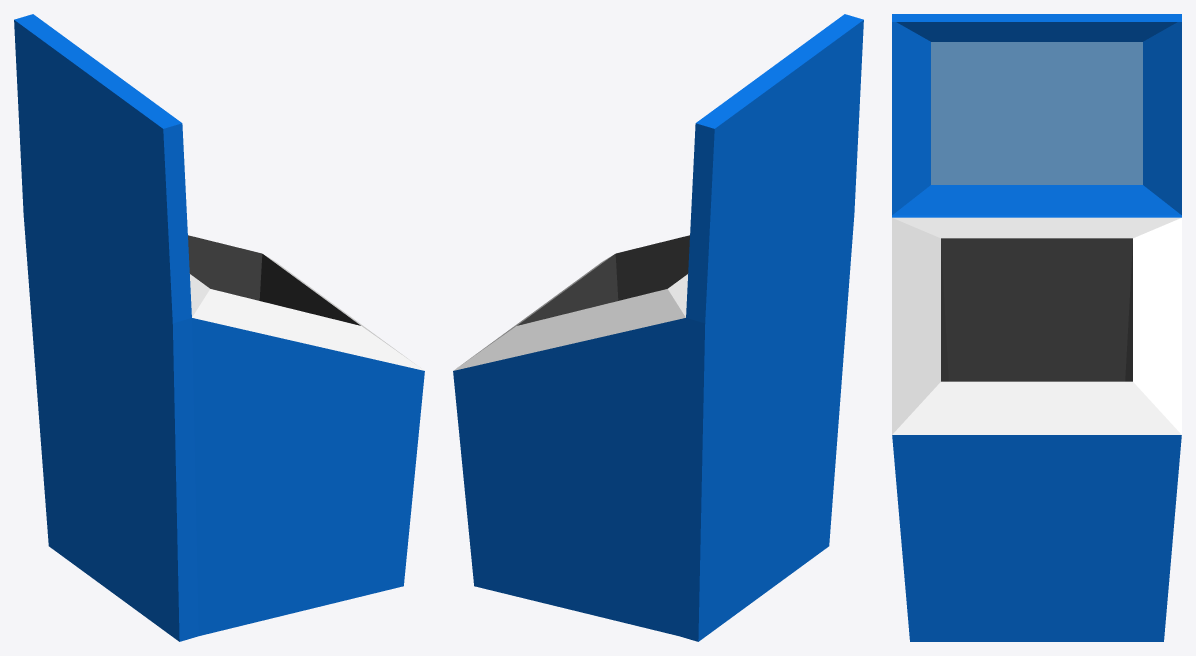
The model's file is Blue_tube.fbx.
The picture shows the model from 3 angles, left to right: view 1: azimuth 30°, elevation 25°; view 2: azimuth 150°, elevation 25°; view 3: azimuth 270°, elevation 25°; orthographic projection. The views are drawn at different scales.
Parts seen in each view (by area): view 1: Cube.001; view 2: Cube.001; view 3: Cube.001.
Boxes of the visible parts, bbox=[...] form: Cube.001: bbox=[14, 14, 424, 641]; Cube.001: bbox=[453, 14, 863, 641]; Cube.001: bbox=[892, 14, 1181, 641].
Size of the model in its own units: 231 by 445 by 228.
